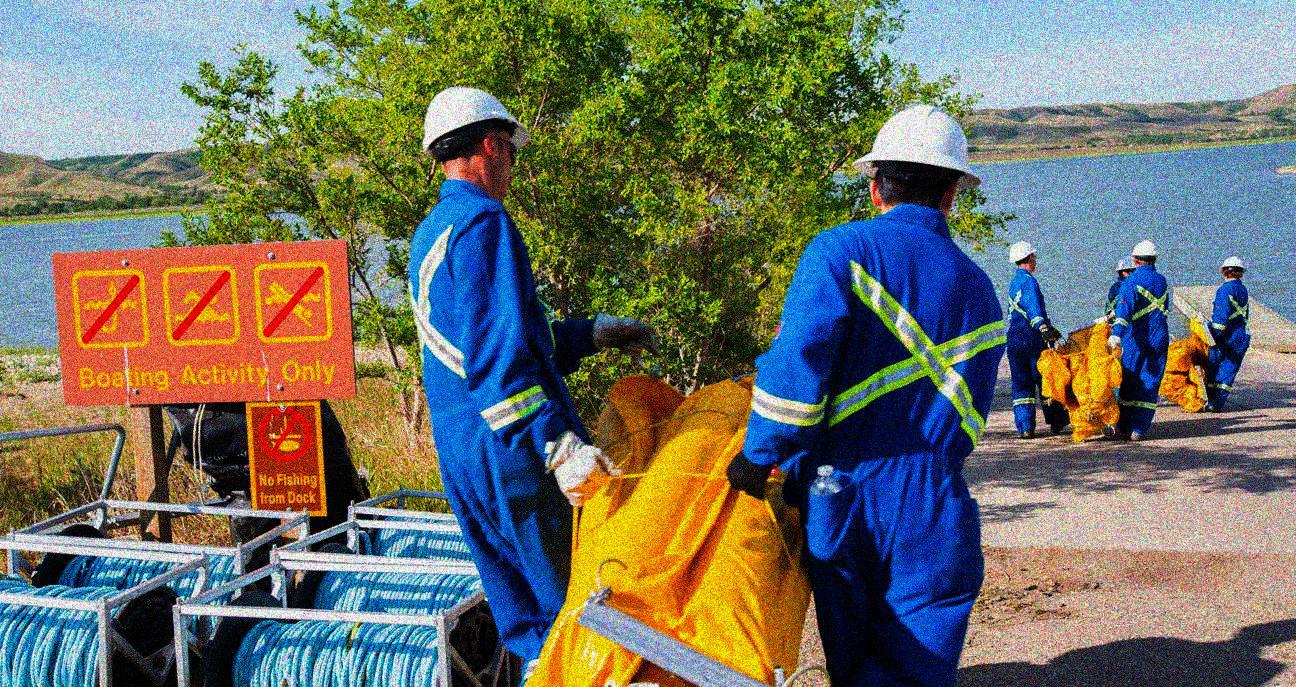helmet: (857, 105, 984, 224), (424, 88, 531, 200), (1006, 239, 1042, 278), (1131, 239, 1160, 267), (1220, 254, 1247, 282), (1115, 255, 1140, 277)
